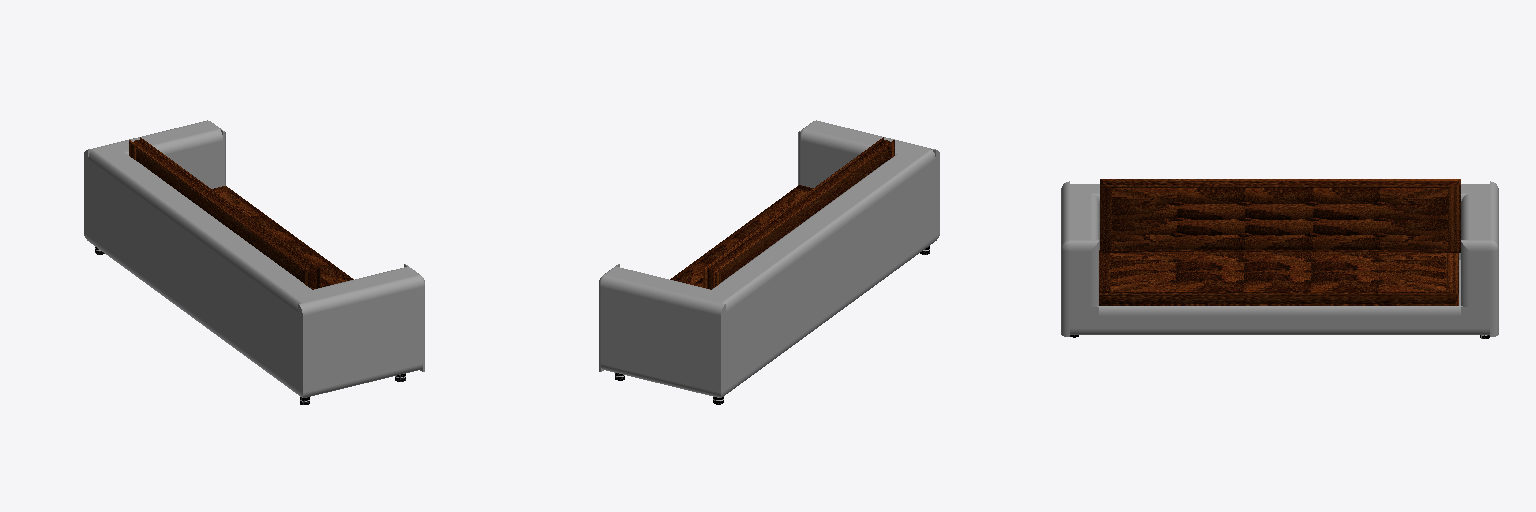
The picture shows the model from 3 angles: view 1: azimuth 30°, elevation 25°; view 2: azimuth 150°, elevation 25°; view 3: azimuth 270°, elevation 25°; orthographic projection.
Visible parts, largest first — view 1: mesh1_mesh1-geometry, mesh30.002_mesh30-geometry, mesh30.001_mesh30-geometry; view 2: mesh1_mesh1-geometry, mesh30.002_mesh30-geometry, mesh30.001_mesh30-geometry; view 3: mesh1_mesh1-geometry, mesh30.001_mesh30-geometry, mesh30.002_mesh30-geometry, mesh12.002_mesh12-geometry, mesh23.013_mesh23-geometry, mesh23.012_mesh23-geometry, mesh20.016_mesh20-geometry, mesh23.014_mesh23-geometry, mesh20.012_mesh20-geometry, mesh17.014_mesh17-geometry, mesh17.013_mesh17-geometry, mesh14.002_mesh14-geometry (+28 smaller).
Boxes of the visible parts, box(x1,y1,x2,y2) form: mesh1_mesh1-geometry: box(84, 120, 424, 397); mesh30.002_mesh30-geometry: box(129, 137, 320, 289); mesh30.001_mesh30-geometry: box(212, 186, 353, 279); mesh1_mesh1-geometry: box(599, 120, 939, 397); mesh30.002_mesh30-geometry: box(703, 137, 894, 289); mesh30.001_mesh30-geometry: box(670, 185, 812, 279); mesh1_mesh1-geometry: box(1061, 181, 1498, 336); mesh30.001_mesh30-geometry: box(1099, 250, 1458, 305); mesh30.002_mesh30-geometry: box(1100, 179, 1460, 252); mesh12.002_mesh12-geometry: box(1380, 188, 1447, 203); mesh23.013_mesh23-geometry: box(1245, 188, 1312, 203); mesh23.012_mesh23-geometry: box(1177, 188, 1244, 203); mesh20.016_mesh20-geometry: box(1380, 203, 1447, 219); mesh23.014_mesh23-geometry: box(1313, 188, 1379, 203); mesh20.012_mesh20-geometry: box(1380, 219, 1447, 235); mesh17.014_mesh17-geometry: box(1245, 204, 1312, 219); mesh17.013_mesh17-geometry: box(1177, 204, 1244, 219); mesh14.002_mesh14-geometry: box(1112, 188, 1176, 203).
Size of the model in its own units: 0.3022 by 0.2712 by 0.9139.
4 materials, 2 textured.